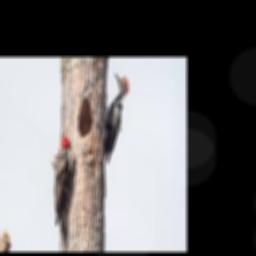Woodpecker: (104, 71, 130, 164), (54, 136, 73, 251)
